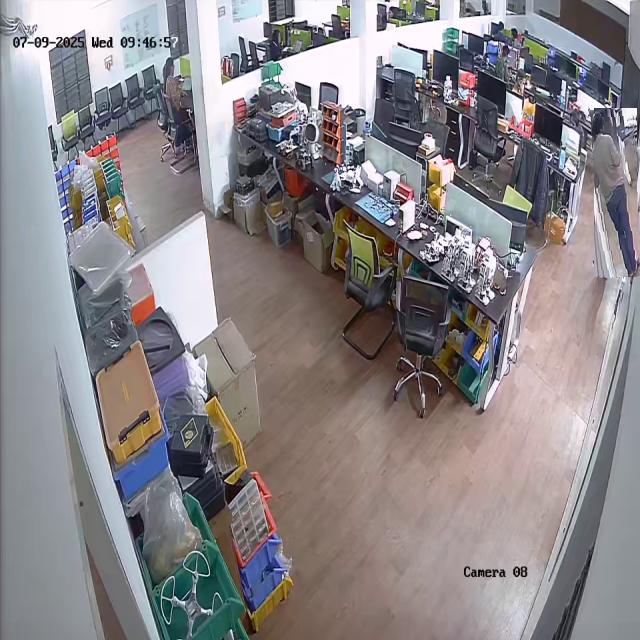person: (592, 108, 639, 277)
